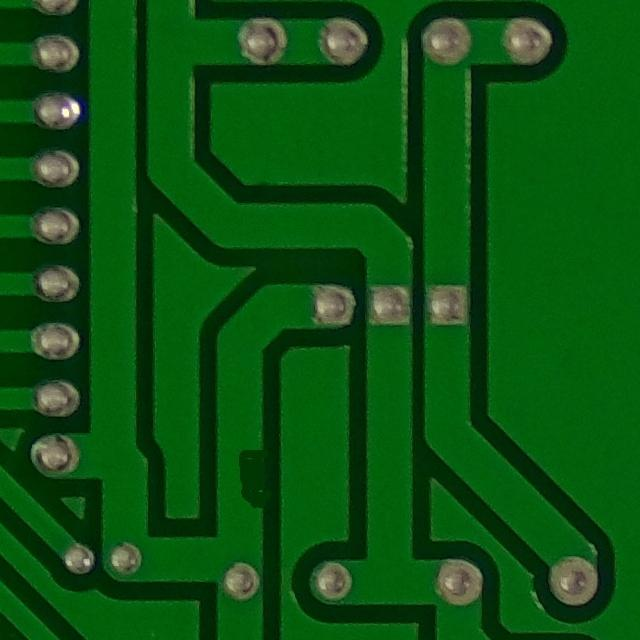mouse_bite: (218, 431, 274, 522)
